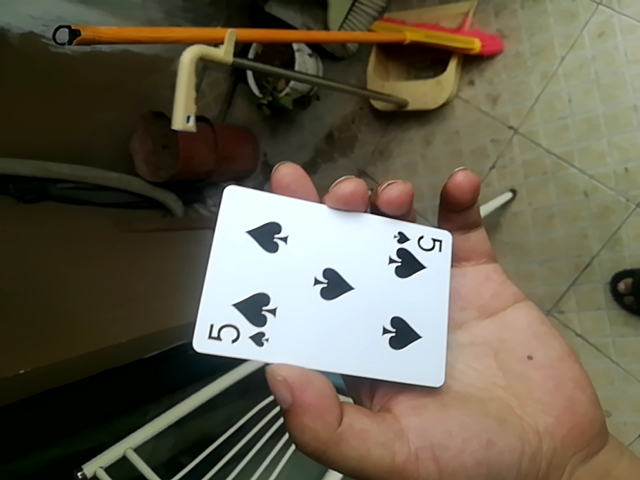ht 5: (190, 179, 452, 392)
